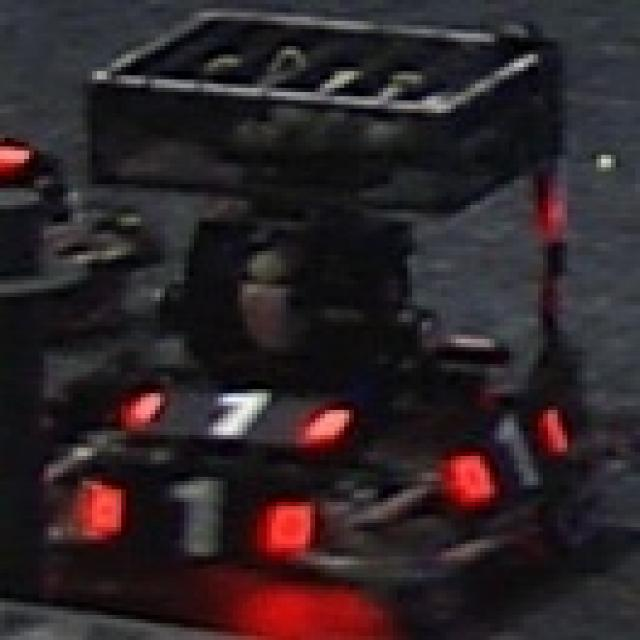R1: (63, 466, 320, 571), (104, 366, 337, 454), (437, 387, 568, 512)
